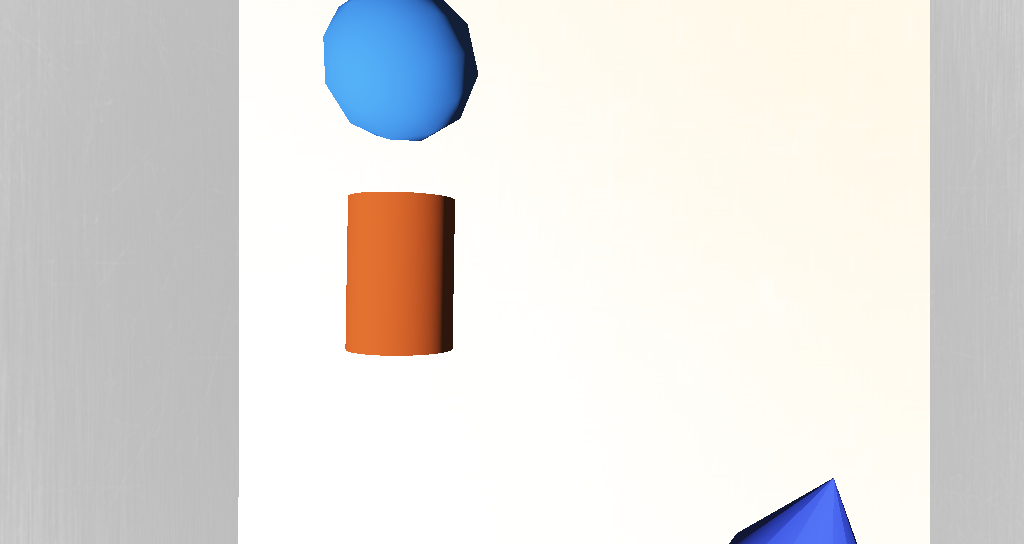cone: (397, 243, 451, 291)
cylinder: (559, 313, 627, 384)
sphere: (401, 188, 461, 231)
